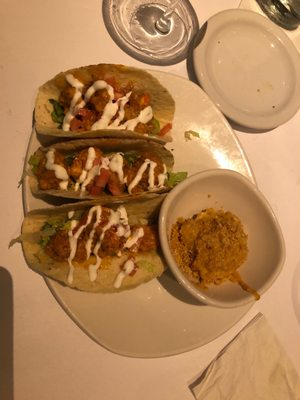sushi: (158, 168, 285, 310), (188, 9, 300, 132), (33, 64, 178, 147)
